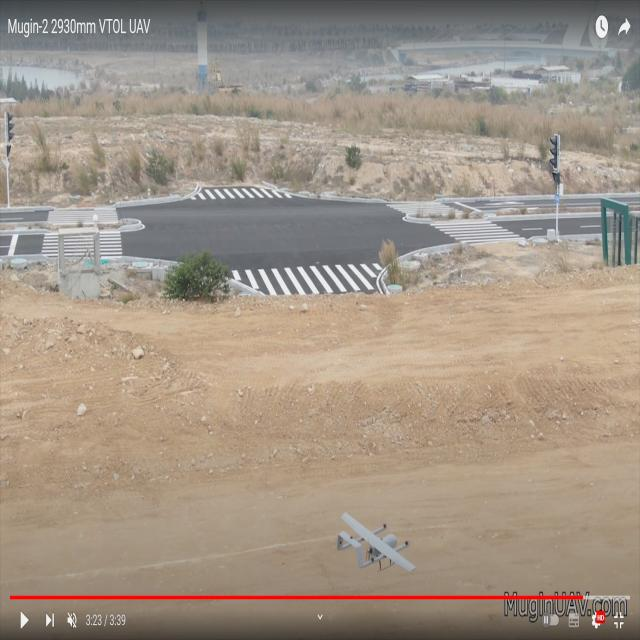iha: (369, 545, 382, 547)
